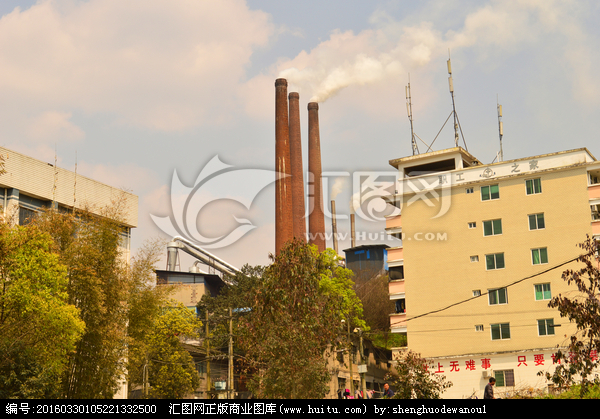dust: (266, 23, 409, 110)
